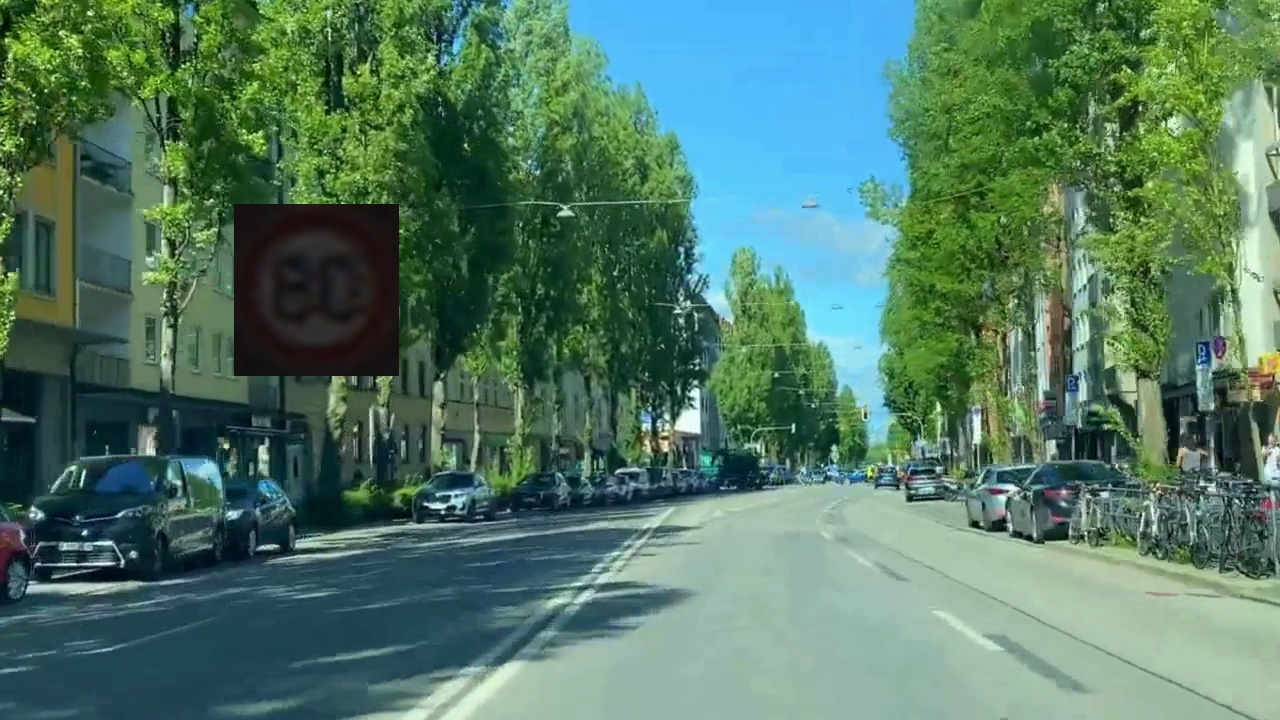Speed 80: (234, 204, 399, 376)
